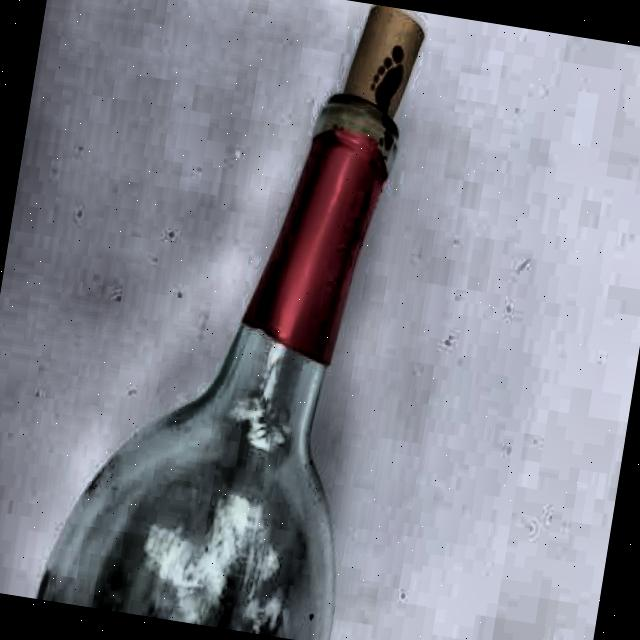glass: (22, 59, 410, 640)
